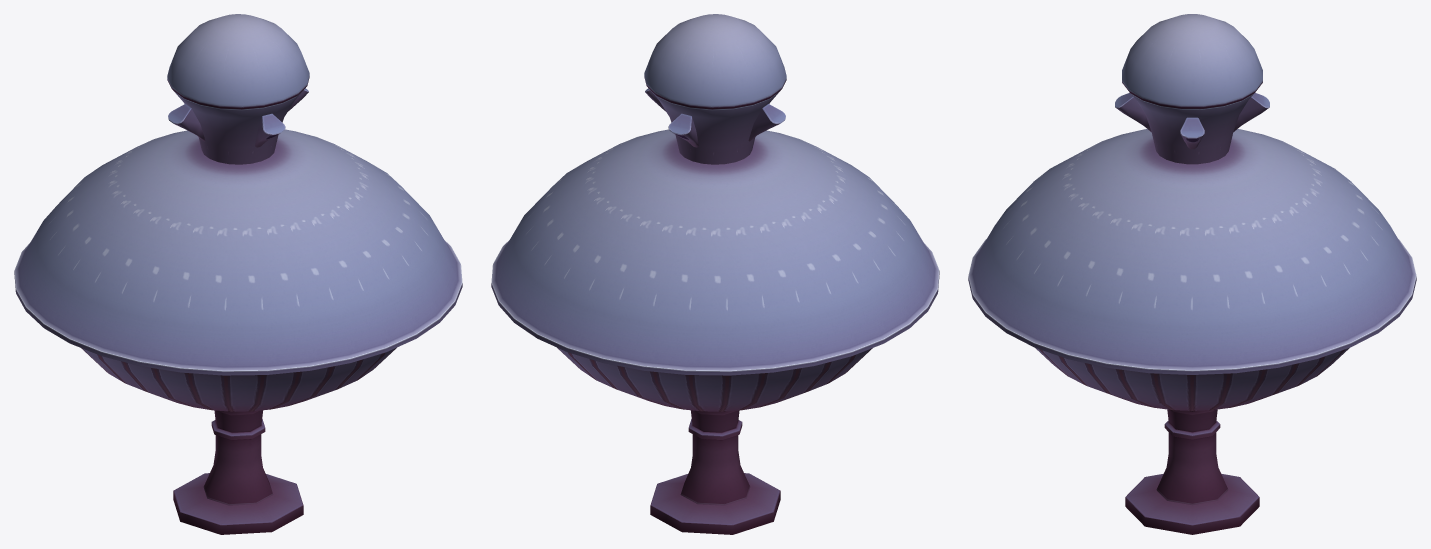
File: difuzhandouchangjing_penquan.FBX
The picture shows the model from 3 angles, left to right: view 1: azimuth 30°, elevation 25°; view 2: azimuth 150°, elevation 25°; view 3: azimuth 270°, elevation 25°; orthographic projection.
Parts seen in each view (by area): view 1: difuzhandou_penquan; view 2: difuzhandou_penquan; view 3: difuzhandou_penquan.
Boxes of the visible parts, x1,y1,x2,y2 form: difuzhandou_penquan: (14,14,462,534); difuzhandou_penquan: (491,14,939,534); difuzhandou_penquan: (968,14,1416,534).
Size of the model in its own units: 739 by 885 by 739.
